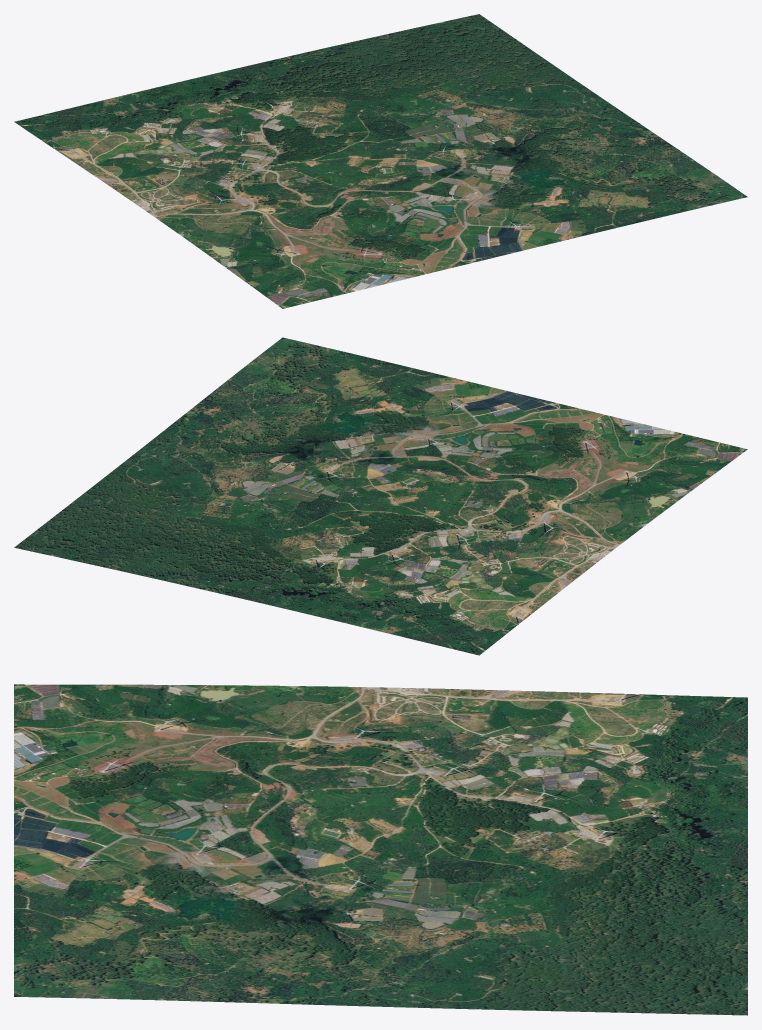
The model's file is terrain_real_T_E07_S03.glb.
3 views of the same model, one above another, from view 1: azimuth 30°, elevation 25°; view 2: azimuth 150°, elevation 25°; view 3: azimuth 270°, elevation 25° (orthographic). The views are drawn at different scales.
Visible parts, largest first — view 1: Terrain_Real_DEM_T_E07_S03; view 2: Terrain_Real_DEM_T_E07_S03; view 3: Terrain_Real_DEM_T_E07_S03.
Part boxes in pixels (<box>): Terrain_Real_DEM_T_E07_S03: <box>14,14,747,308</box>; Terrain_Real_DEM_T_E07_S03: <box>14,337,747,655</box>; Terrain_Real_DEM_T_E07_S03: <box>14,684,747,1015</box>.
Bounding box in the file's own units: 2000 × 76.59 × 2000.
1 material, 1 textured.
